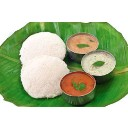idly: (19, 56, 70, 97), (22, 30, 66, 61)
